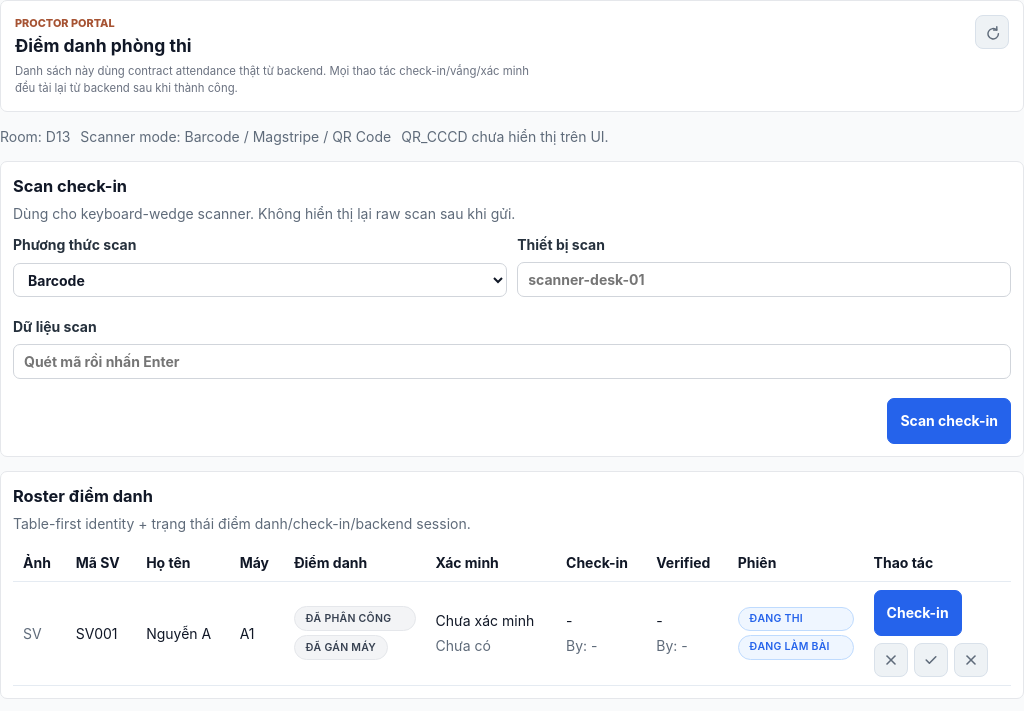
Test case: Phase 2B proctor pages › scanner success refreshes list, clears input, and never renders raw scan value
Type "RAW-SCAN-ABC-999" into the field labelled "Dữ liệu scan" at (512, 362), box [13, 344, 1011, 379]
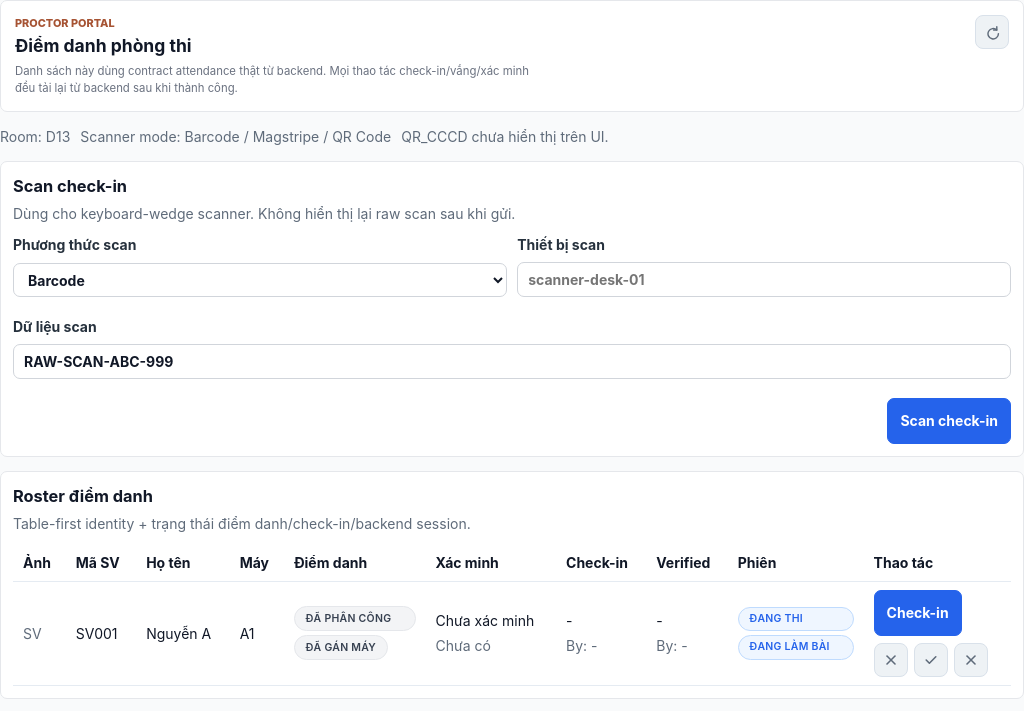
Click the button "Scan check-in" at (949, 421), box [887, 398, 1011, 444]
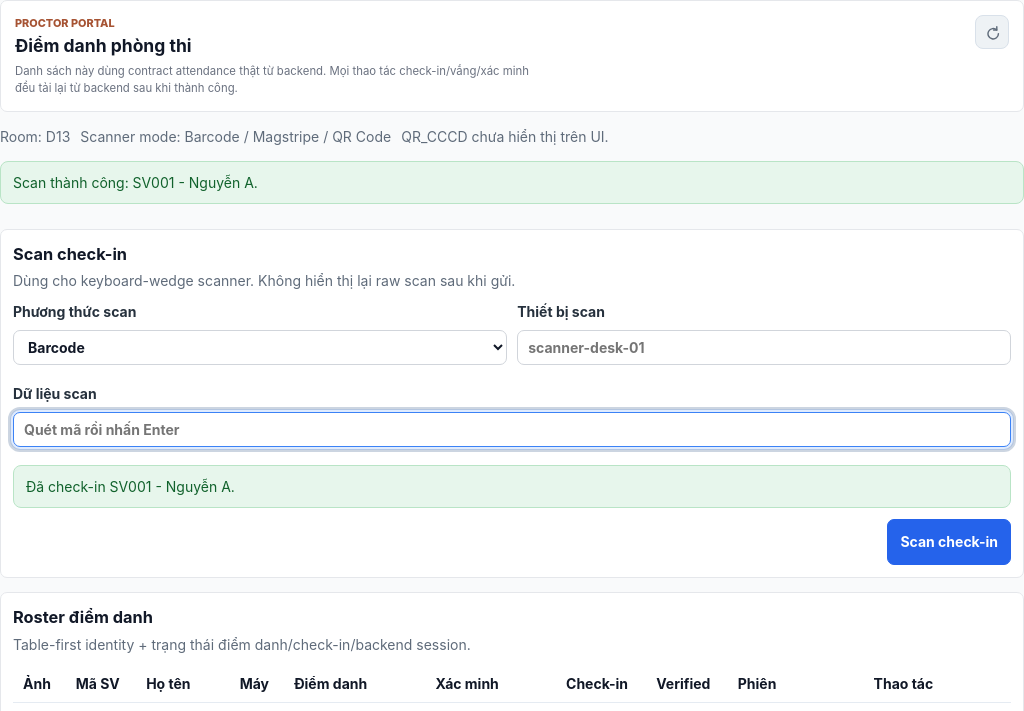
Expected: the text "RAW-SCAN-ABC-999" is not shown
Expected: the field labelled "Dữ liệu scan" is empty, [13, 412, 1011, 447]
Expected: the text "Scan thành công: SV001 - Nguyễn A." is shown, [0, 161, 1023, 204]
